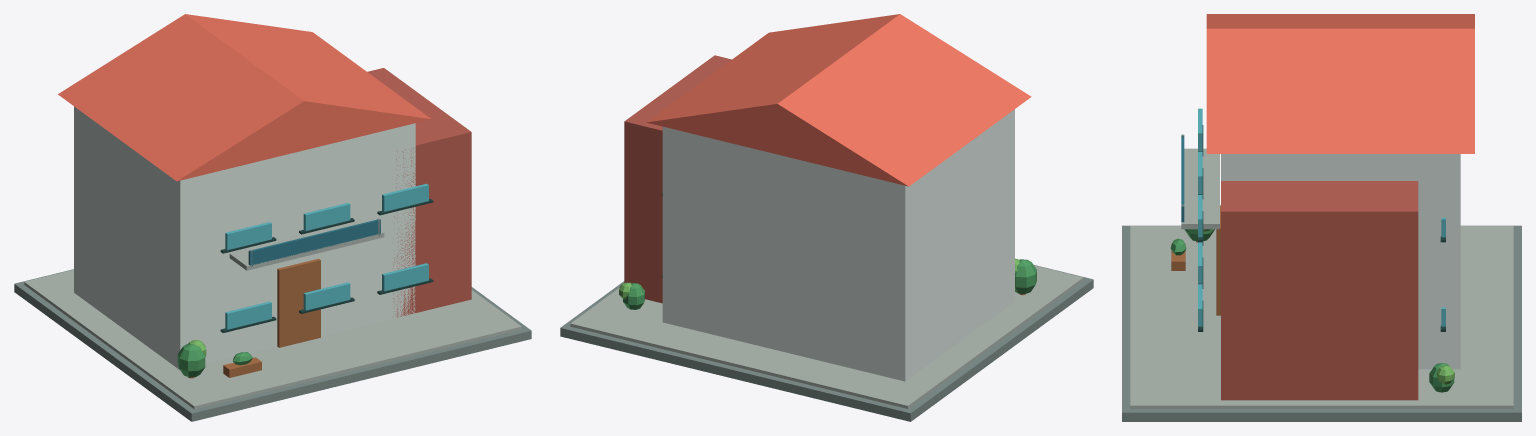
File: house_lv3.glb
3 renders of one model, left to right at view 1: azimuth 30°, elevation 25°; view 2: azimuth 150°, elevation 25°; view 3: azimuth 270°, elevation 25°, orthographic. The views are drawn at different scales.
Visible parts, largest first — view 1: white, coral, concrete, brick, pavement, glass, wood, glassDark, dark, green; view 2: white, coral, concrete, brick, pavement, green; view 3: brick, coral, concrete, white, pavement, glass, green, wood, dark.
Part boxes in pixels (bbox=[...]): white: bbox=[74, 106, 415, 370]; coral: bbox=[58, 14, 431, 181]; concrete: bbox=[24, 220, 521, 409]; brick: bbox=[367, 68, 471, 317]; pavement: bbox=[14, 269, 531, 421]; glass: bbox=[225, 183, 428, 329]; wood: bbox=[188, 258, 320, 378]; glassDark: bbox=[248, 219, 380, 265]; dark: bbox=[220, 199, 433, 332]; green: bbox=[177, 344, 252, 377]; white: bbox=[662, 109, 1014, 381]; coral: bbox=[646, 14, 1031, 186]; concrete: bbox=[570, 265, 1083, 408]; brick: bbox=[624, 55, 731, 303]; pavement: bbox=[560, 265, 1093, 421]; green: bbox=[623, 259, 1036, 309]; brick: bbox=[1221, 181, 1418, 400]; coral: bbox=[1206, 14, 1474, 153]; concrete: bbox=[1130, 148, 1513, 408]; white: bbox=[1221, 154, 1460, 369]; pavement: bbox=[1122, 225, 1521, 421]; glass: bbox=[1198, 108, 1445, 326]; green: bbox=[1170, 229, 1454, 392]; wood: bbox=[1171, 205, 1220, 315]; dark: bbox=[1198, 125, 1445, 331].
Size of the model in its own units: 9.4 by 6.78 by 8.5.
